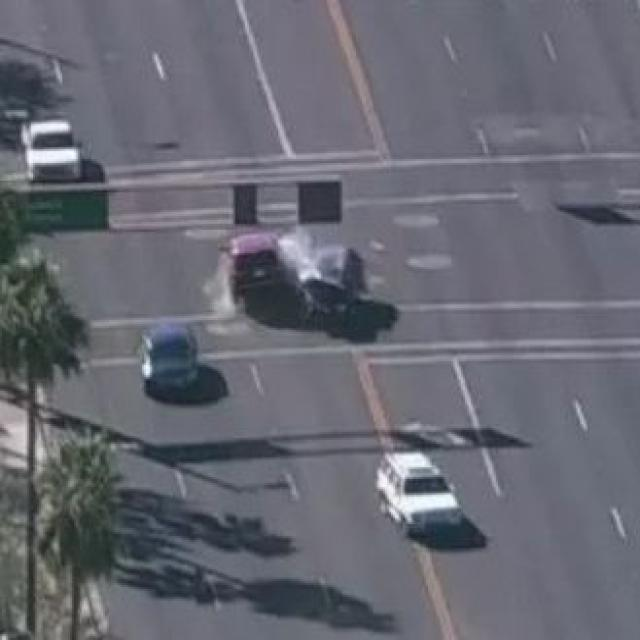traffic_incident: (177, 198, 420, 324)
